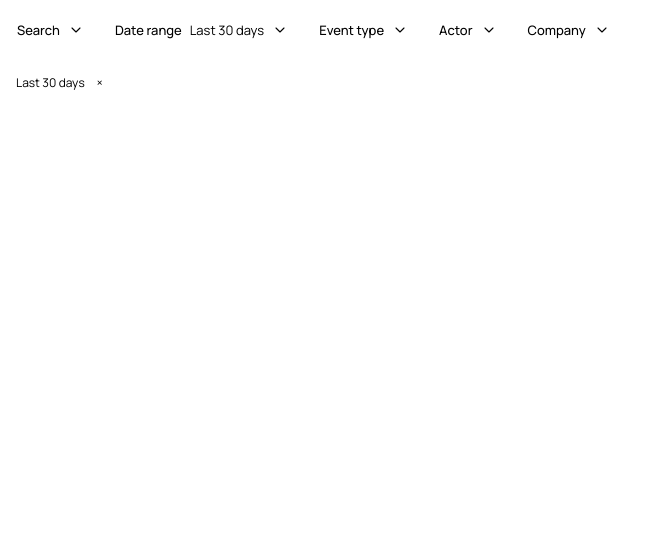
it: AuditFilterCard: event type › auditFilterCard_accountCountsComeFromFacets
Click the button with test id "audit-event-trigger" at (364, 30), box [308,13,419,47]
(page scrolled)
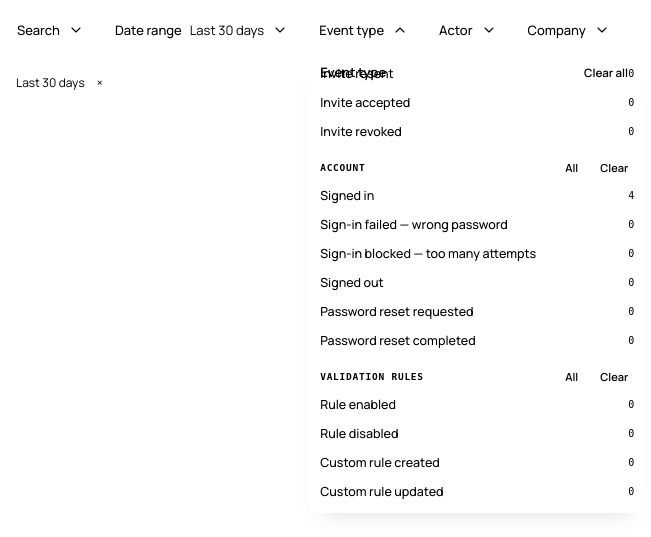
Result: the text with test id "audit-event-count-account.signed_in" reads "4" at [628,190,634,201]
Result: the text with test id "audit-event-count-account.signed_out" reads "0" at [628,277,634,288]
